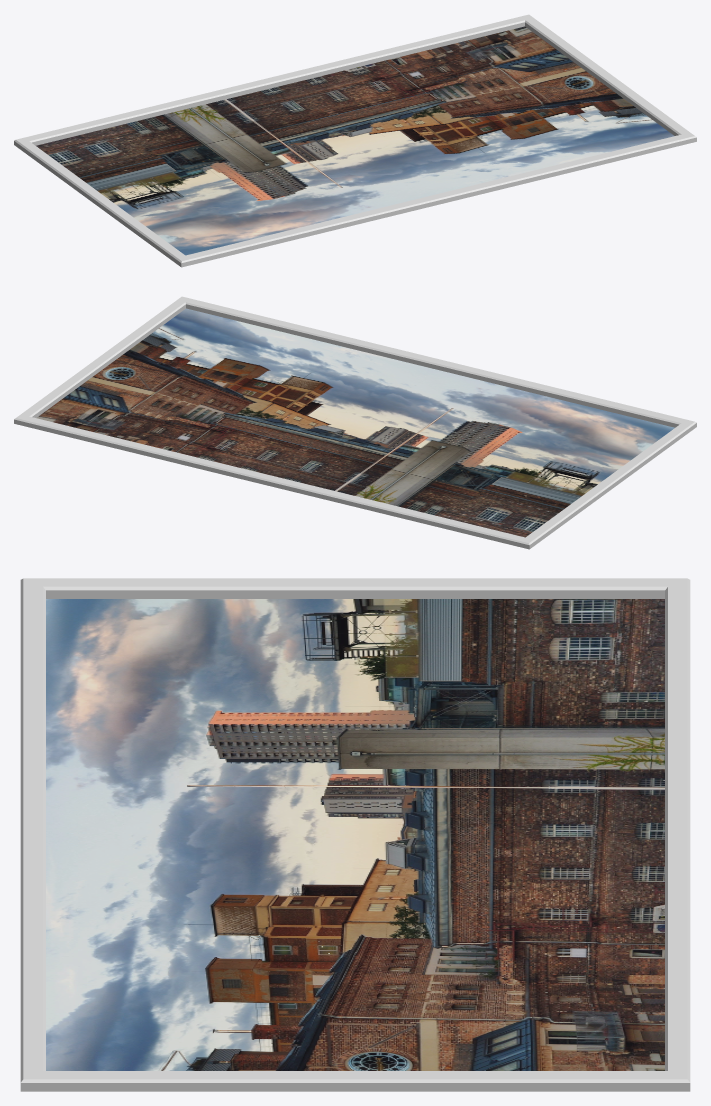
File: painting-003.glb
3 views of the same model, one above another, from view 1: azimuth 30°, elevation 25°; view 2: azimuth 150°, elevation 25°; view 3: azimuth 270°, elevation 25° (orthographic). The views are drawn at different scales.
Visible parts, largest first — view 1: painting, frame; view 2: painting, frame; view 3: painting, frame.
Part boxes in pixels (left/top/right/bottom): painting: left=36, top=26, right=674, bottom=255; frame: left=14, top=14, right=696, bottom=267; painting: left=36, top=308, right=674, bottom=537; frame: left=14, top=296, right=696, bottom=549; painting: left=46, top=599, right=664, bottom=1070; frame: left=20, top=578, right=690, bottom=1091.
Bounding box in the file's own units: 1.96 × 0.02 × 1.1.
Materials: 2 (1 with a texture image).
